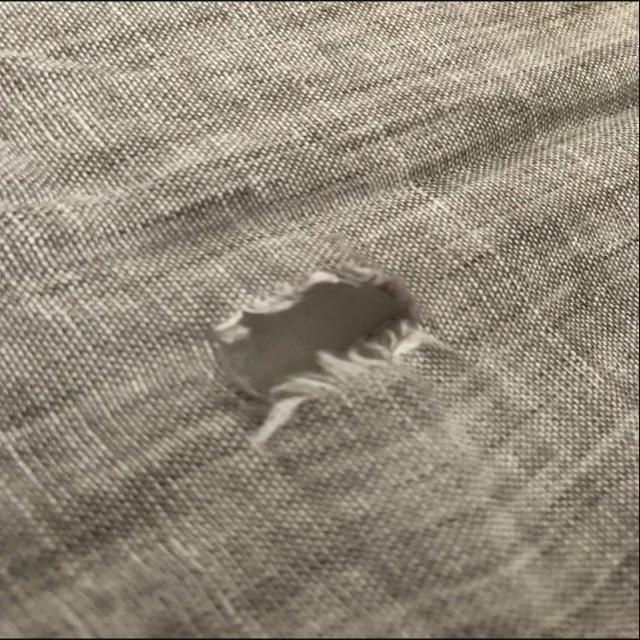cut: (203, 265, 424, 415)
